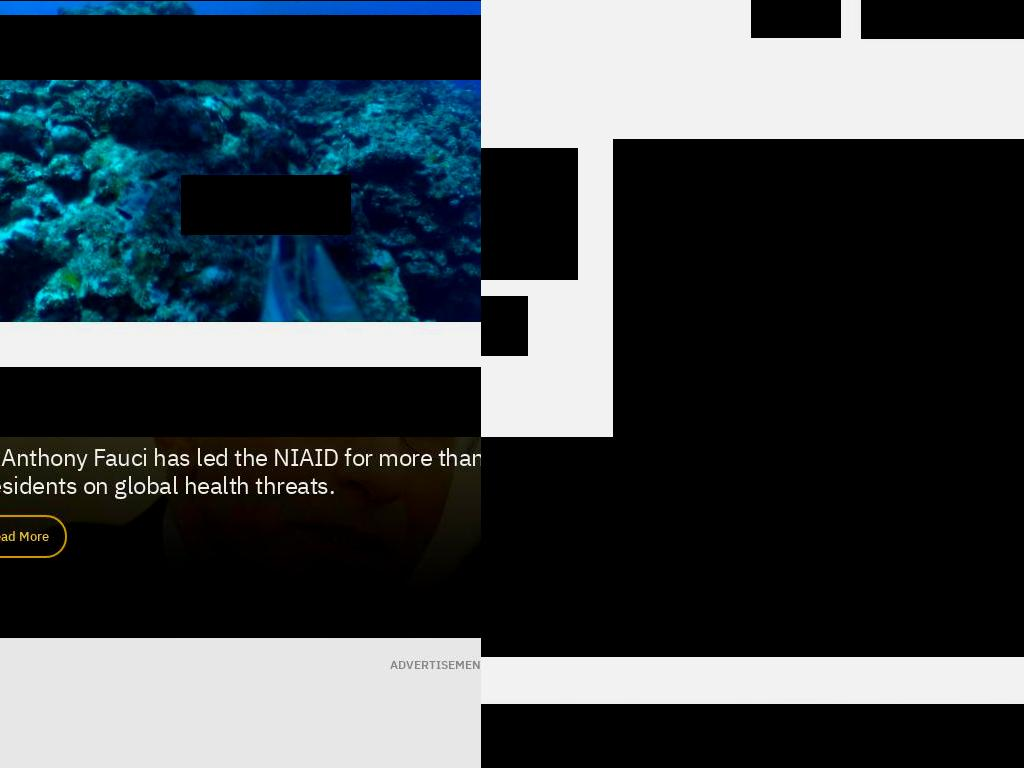button: (481, 437, 1024, 657), (0, 437, 481, 638), (481, 704, 1024, 768), (181, 175, 351, 235), (861, 0, 1024, 39), (751, 0, 841, 38), (0, 515, 67, 558)
heading: (625, 505, 1024, 590), (0, 15, 481, 80), (481, 148, 578, 280)
image: (613, 139, 1024, 437), (0, 437, 481, 638), (481, 704, 1024, 768), (0, 367, 481, 437)
link: (0, 443, 481, 499)
text: (0, 647, 481, 768), (811, 605, 949, 624), (775, 0, 817, 38), (885, 4, 960, 23), (960, 4, 1024, 24)
